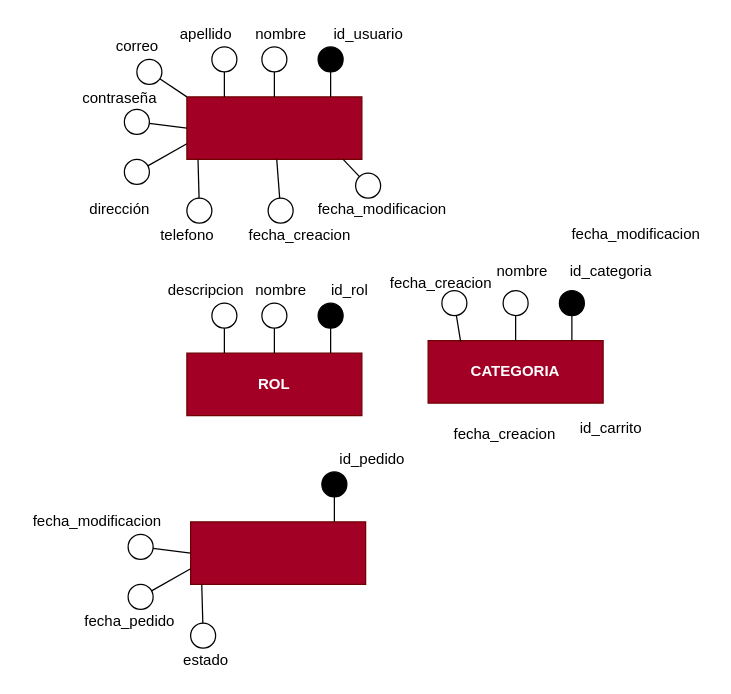
Image size: 731x694. Some labels were removed from this diagram. The centre of each missing label's shape, as x and y in pixels:
PEDIDO: the point at 277,552
USUARIO: the point at 274,127
